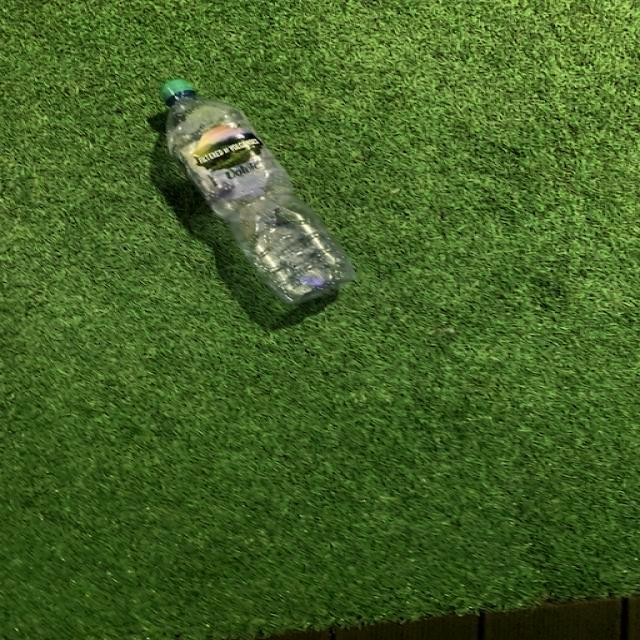bottle: (160, 80, 354, 305)
